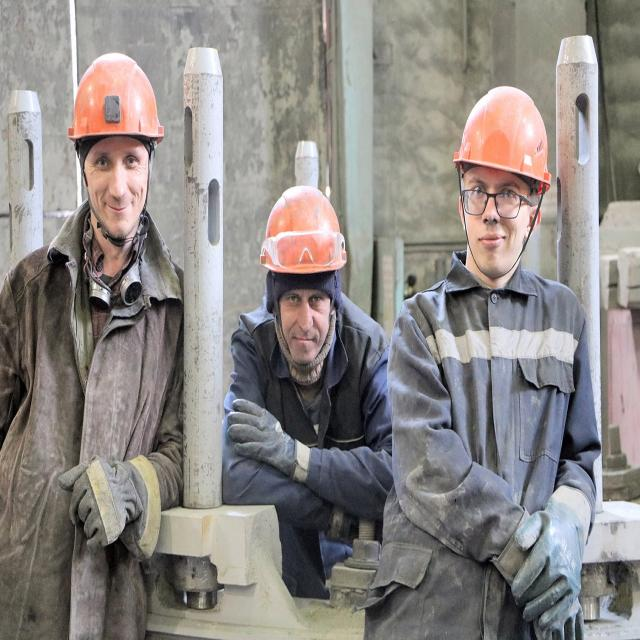Helmet: (454, 86, 554, 195), (70, 53, 166, 159), (263, 186, 348, 283)
NoJacket: (18, 213, 179, 583), (417, 247, 574, 617), (252, 305, 368, 490)
